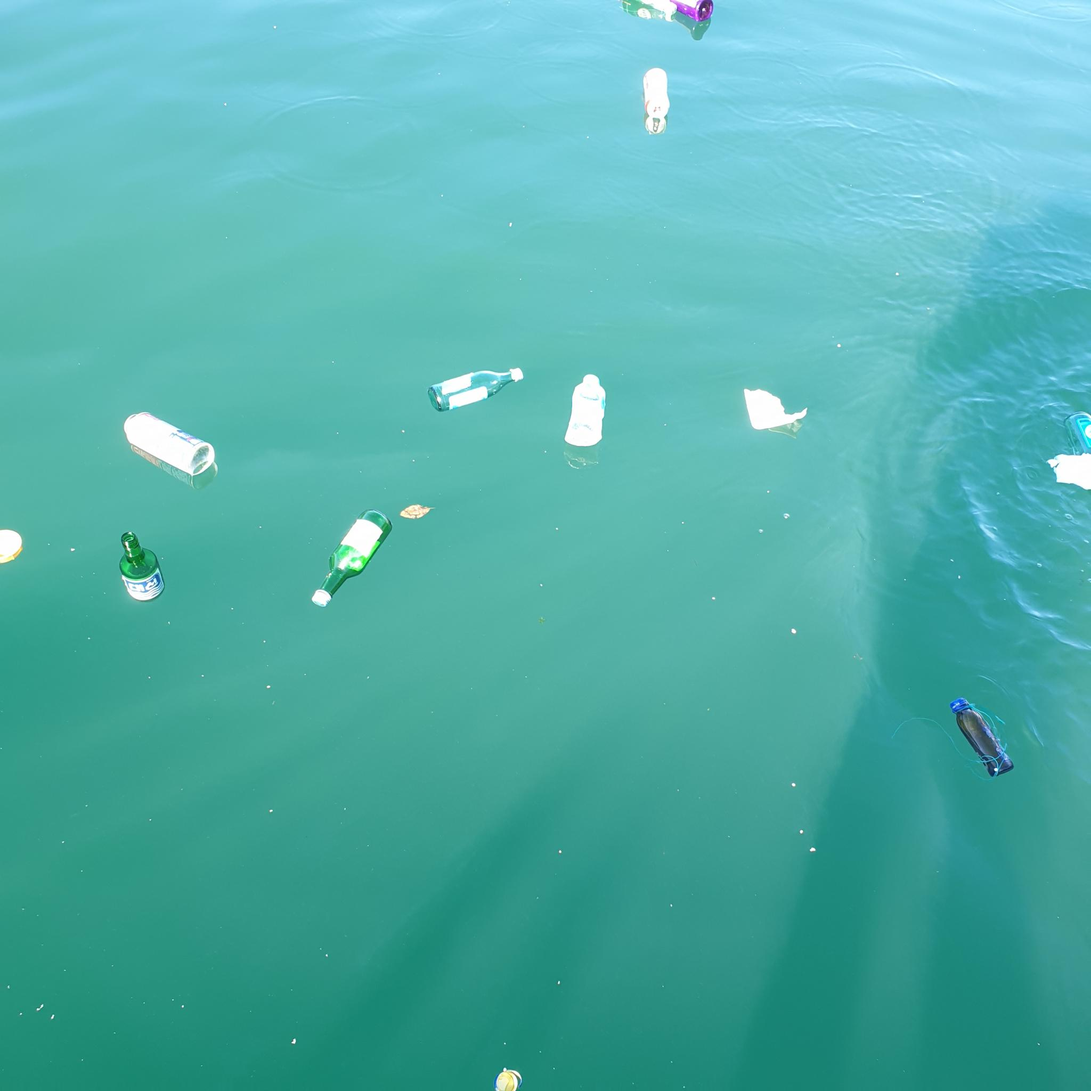sampah_terapung: (312, 510, 393, 607), (124, 412, 215, 476), (950, 698, 1014, 777), (429, 368, 524, 412), (120, 532, 166, 603), (565, 375, 606, 447), (745, 389, 808, 430), (1048, 454, 1091, 491), (644, 69, 671, 119), (1064, 412, 1091, 455), (670, 1, 714, 22), (637, 1, 678, 15)
